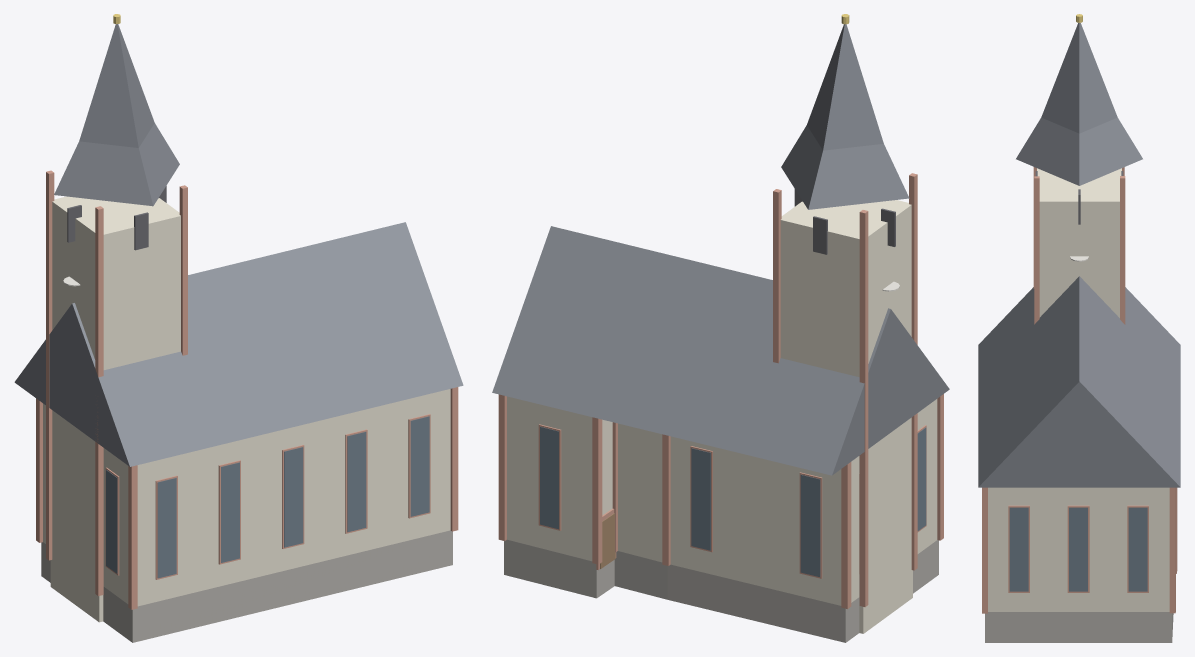
File: church-evangelische-pfarrkirche-wollbach.glb
The picture shows the model from 3 angles, left to right: view 1: azimuth 30°, elevation 25°; view 2: azimuth 150°, elevation 25°; view 3: azimuth 270°, elevation 25°; orthographic projection. The views are drawn at different scales.
Parts seen in each view (by area): view 1: building; view 2: building; view 3: building.
Part boxes in pixels (box(x1,y1,x2,y2)): building: box(14, 14, 463, 642); building: box(492, 14, 949, 642); building: box(978, 14, 1180, 642).
Size of the model in its own units: 26.1 by 41.02 by 14.86.
